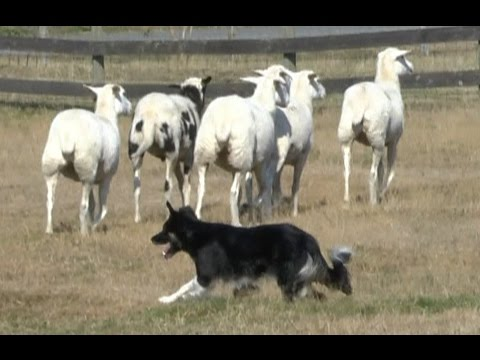sheep: (39, 82, 134, 238), (194, 72, 291, 222), (335, 43, 419, 206), (130, 76, 213, 222), (253, 69, 330, 217)
